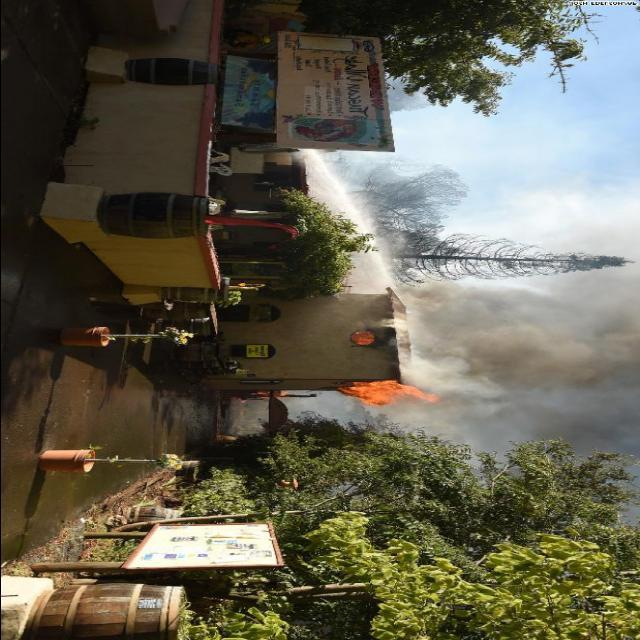Fire: (334, 373, 446, 411)
